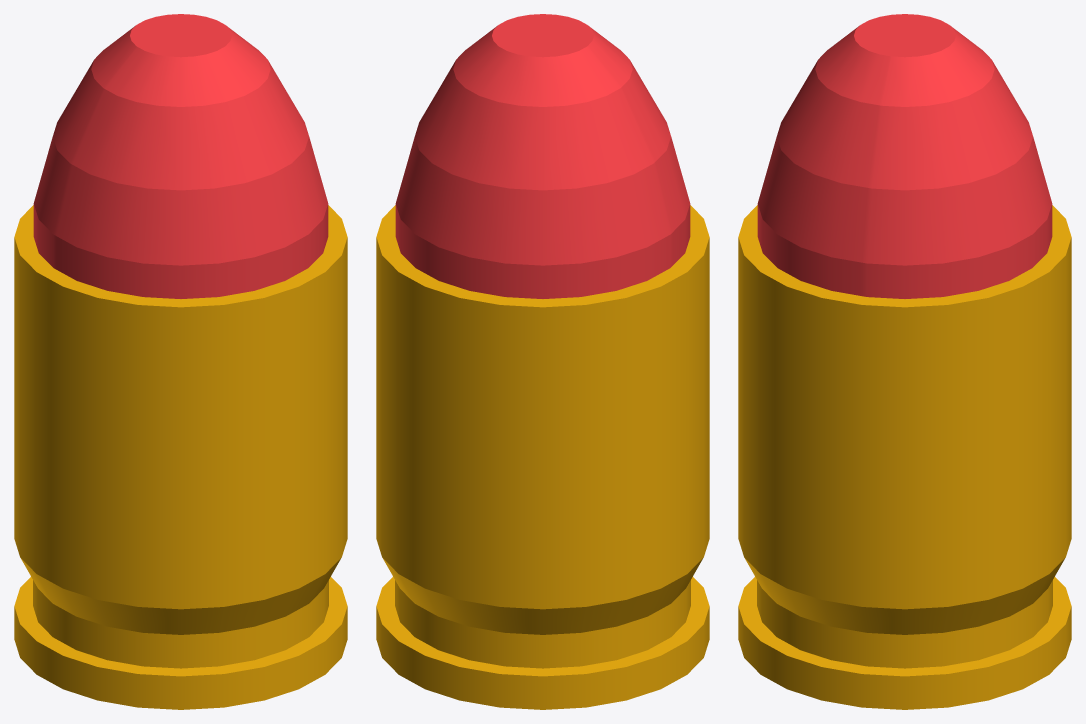
Rendered from ammo_machinegunLauncher.obj.
3 views of the same model, side by side, from view 1: azimuth 30°, elevation 25°; view 2: azimuth 150°, elevation 25°; view 3: azimuth 270°, elevation 25° (orthographic).
Parts seen in each view (by area): view 1: Group; view 2: Group; view 3: Group.
Part boxes in pixels (x1,y1,x2,y2): Group: (14, 14, 347, 709); Group: (376, 14, 709, 709); Group: (738, 14, 1071, 709).
Bounding box in the file's own units: 0.0345 × 0.0689 × 0.0345.
